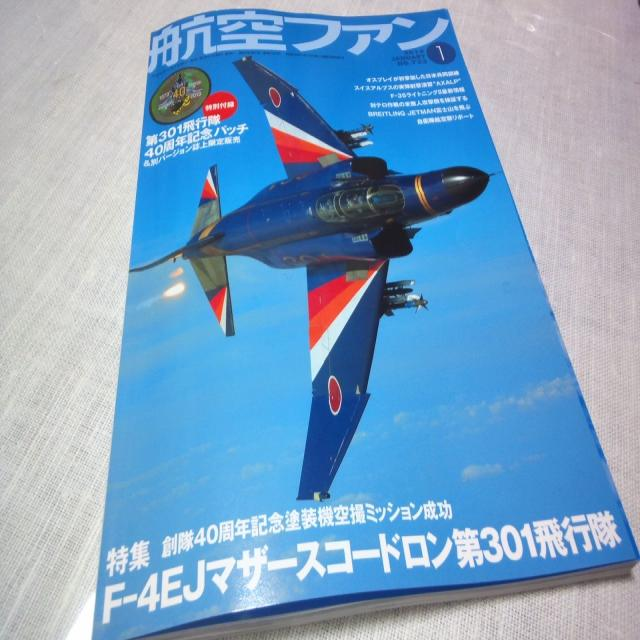MIL_Plane: (129, 55, 503, 502)
